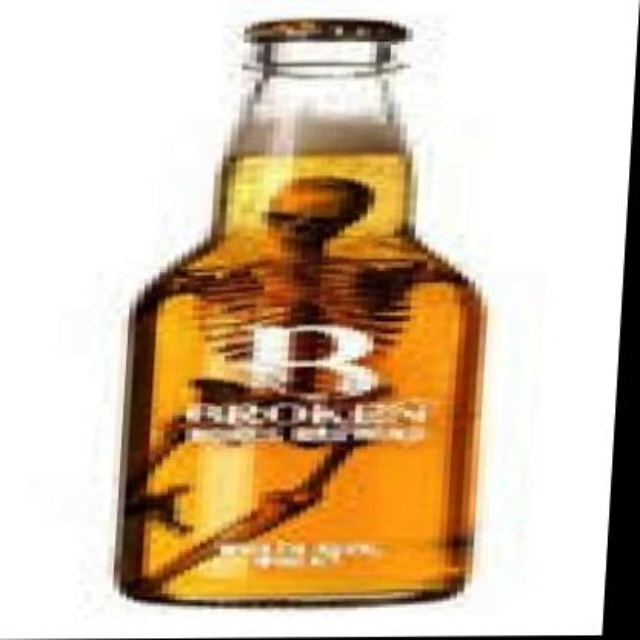trash: (117, 18, 482, 603)
